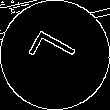L_SE: (25, 29, 85, 81)
